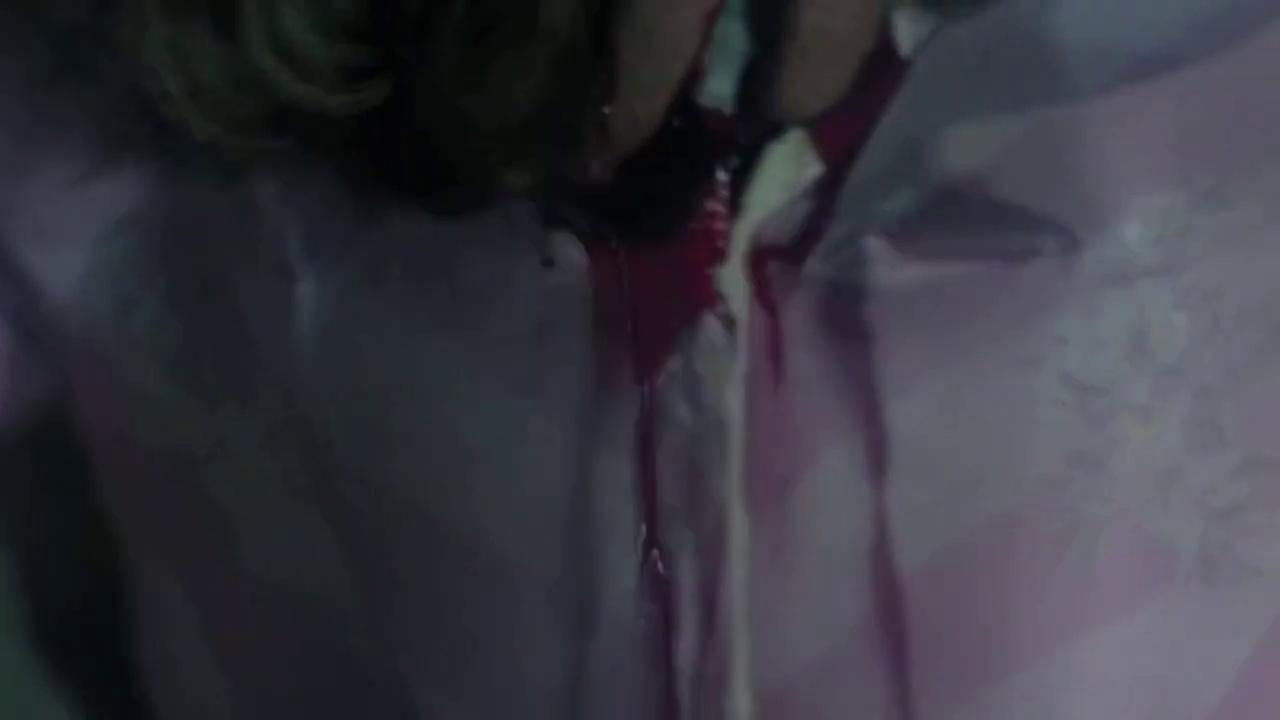Fire: (483, 5, 910, 718)
